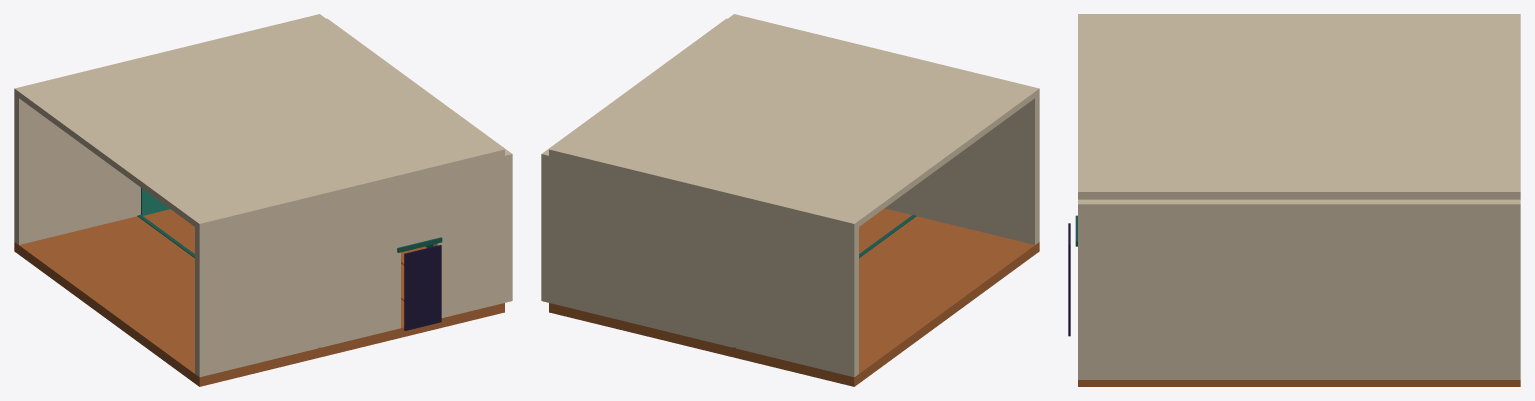
File: lantern_exchange_room.gltf
3 views of the same model, side by side, from view 1: azimuth 30°, elevation 25°; view 2: azimuth 150°, elevation 25°; view 3: azimuth 270°, elevation 25° (orthographic). The views are drawn at different scales.
Parts seen in each view (by area): view 1: ceiling, right_wall, floor, left_wall, right_wall.2, doorway, lintel, back_wall, left_dado; view 2: ceiling, left_wall, floor, right_wall, back_wall; view 3: ceiling, back_wall, floor.
Part boxes in pixels (<box>): ceiling: <box>14,14,504,230</box>; right_wall: <box>195,181,400,377</box>; floor: <box>14,209,504,386</box>; left_wall: <box>14,95,140,244</box>; right_wall.2: <box>433,156,504,317</box>; doorway: <box>404,245,441,330</box>; lintel: <box>401,172,437,246</box>; back_wall: <box>326,18,512,302</box>; left_dado: <box>141,188,169,215</box>; ceiling: <box>549,14,1039,230</box>; left_wall: <box>549,156,858,377</box>; floor: <box>549,208,1039,386</box>; right_wall: <box>885,95,1039,244</box>; back_wall: <box>541,18,727,302</box>; ceiling: <box>1078,14,1520,199</box>; back_wall: <box>1078,199,1520,379</box>; floor: <box>1078,380,1520,386</box>.
Bounding box in the file's own units: 10.25 × 5.1 × 10.72.
